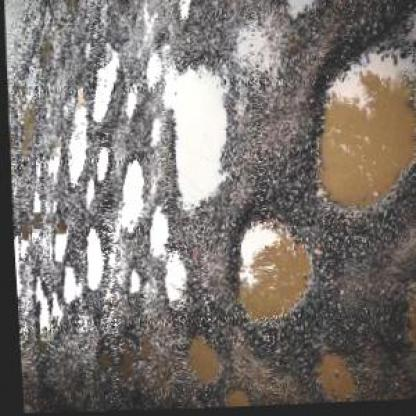pothole: (298, 32, 415, 220), (158, 53, 237, 219), (222, 214, 310, 327), (373, 252, 415, 394), (294, 340, 356, 405), (56, 84, 90, 188), (173, 328, 219, 388), (84, 44, 118, 125), (24, 269, 58, 345), (110, 156, 141, 235), (155, 247, 188, 312), (75, 224, 101, 288), (140, 201, 166, 259), (44, 212, 66, 268), (54, 264, 74, 305), (90, 144, 108, 179), (217, 386, 242, 408), (121, 268, 137, 294)
